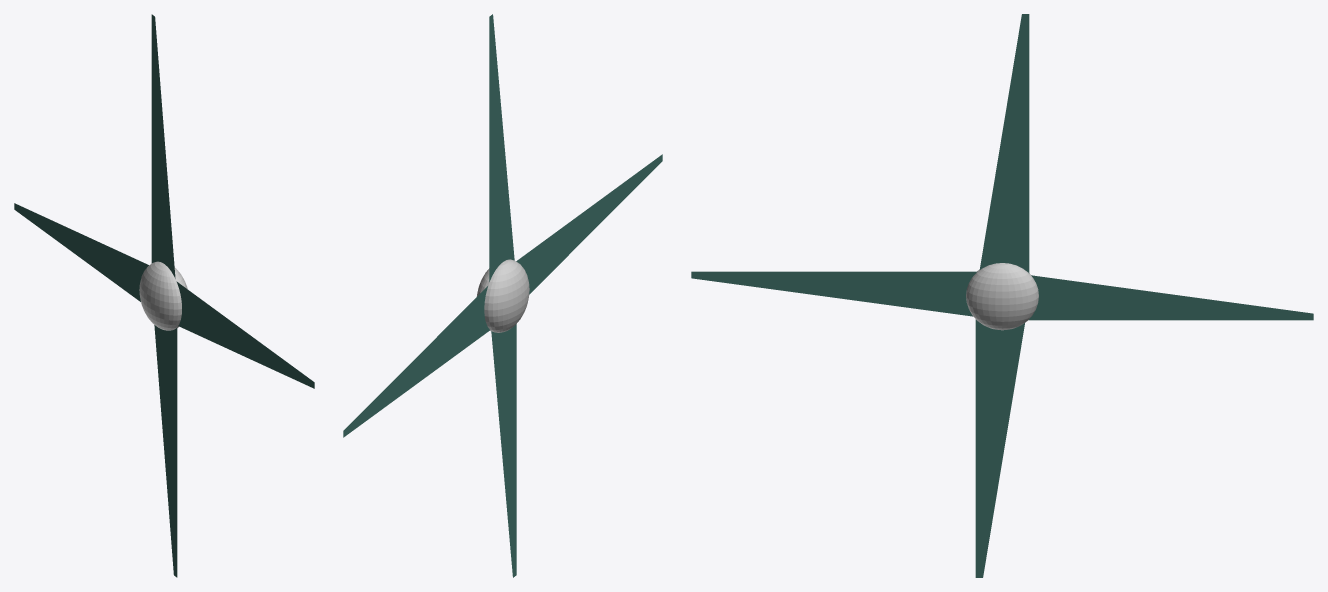
The model's file is obstacle3.glb.
The picture shows the model from 3 angles, left to right: view 1: azimuth 30°, elevation 25°; view 2: azimuth 150°, elevation 25°; view 3: azimuth 270°, elevation 25°; orthographic projection. The views are drawn at different scales.
Visible parts, largest first — view 1: Esfera UV; view 2: Esfera UV; view 3: Esfera UV.
Boxes of the visible parts, x1,y1,x2,y2 form: Esfera UV: [14, 14, 314, 577]; Esfera UV: [343, 14, 662, 577]; Esfera UV: [691, 14, 1313, 577].
Size of the model in its own units: 0.3408 by 4.98 by 4.98.
